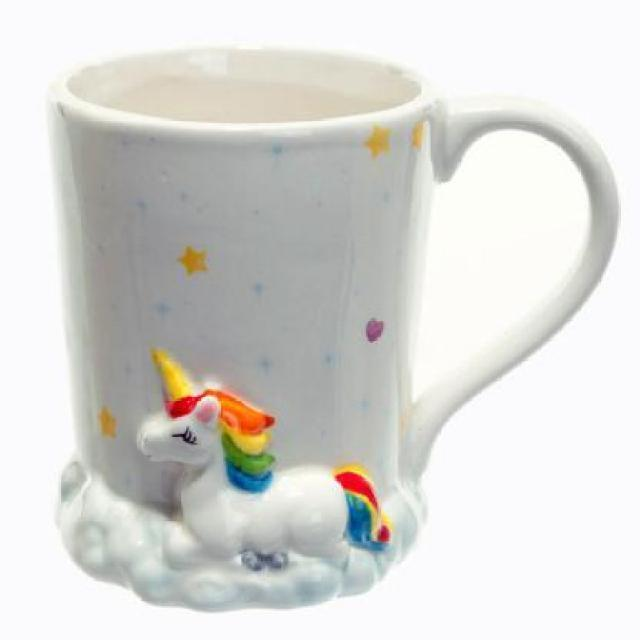taza: (40, 44, 620, 610)
